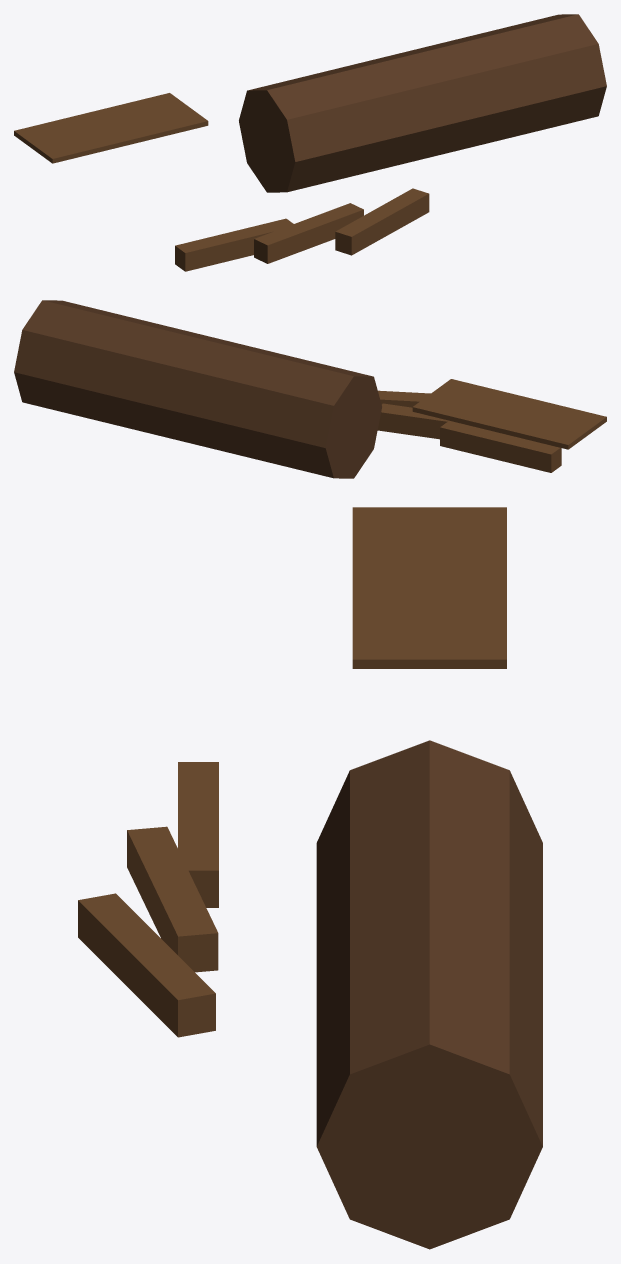
The model's file is prop_camp_log_seat.glb.
The picture shows the model from 3 angles, top to bottom: view 1: azimuth 30°, elevation 25°; view 2: azimuth 150°, elevation 25°; view 3: azimuth 270°, elevation 25°; orthographic projection. The views are drawn at different scales.
Parts seen in each view (by area): view 1: prop_camp_log_seat; view 2: prop_camp_log_seat; view 3: prop_camp_log_seat.
Part boxes in pixels (bbox=[...]): prop_camp_log_seat: bbox=[14, 14, 606, 271]; prop_camp_log_seat: bbox=[14, 300, 606, 478]; prop_camp_log_seat: bbox=[78, 507, 542, 1249].
Size of the model in its own units: 2.45 by 0.45 by 0.9042.
